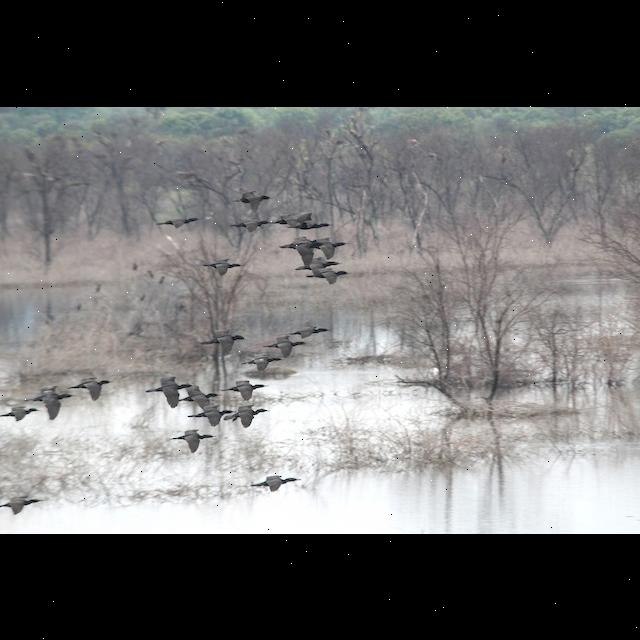cormorant: (196, 327, 248, 353), (68, 374, 116, 402), (248, 472, 302, 496), (169, 428, 219, 452), (224, 402, 272, 426), (0, 492, 46, 516), (234, 188, 274, 212), (220, 379, 270, 398), (200, 257, 246, 277), (1, 402, 42, 423), (154, 214, 206, 230), (303, 268, 349, 286), (292, 320, 331, 340), (242, 354, 284, 372)
